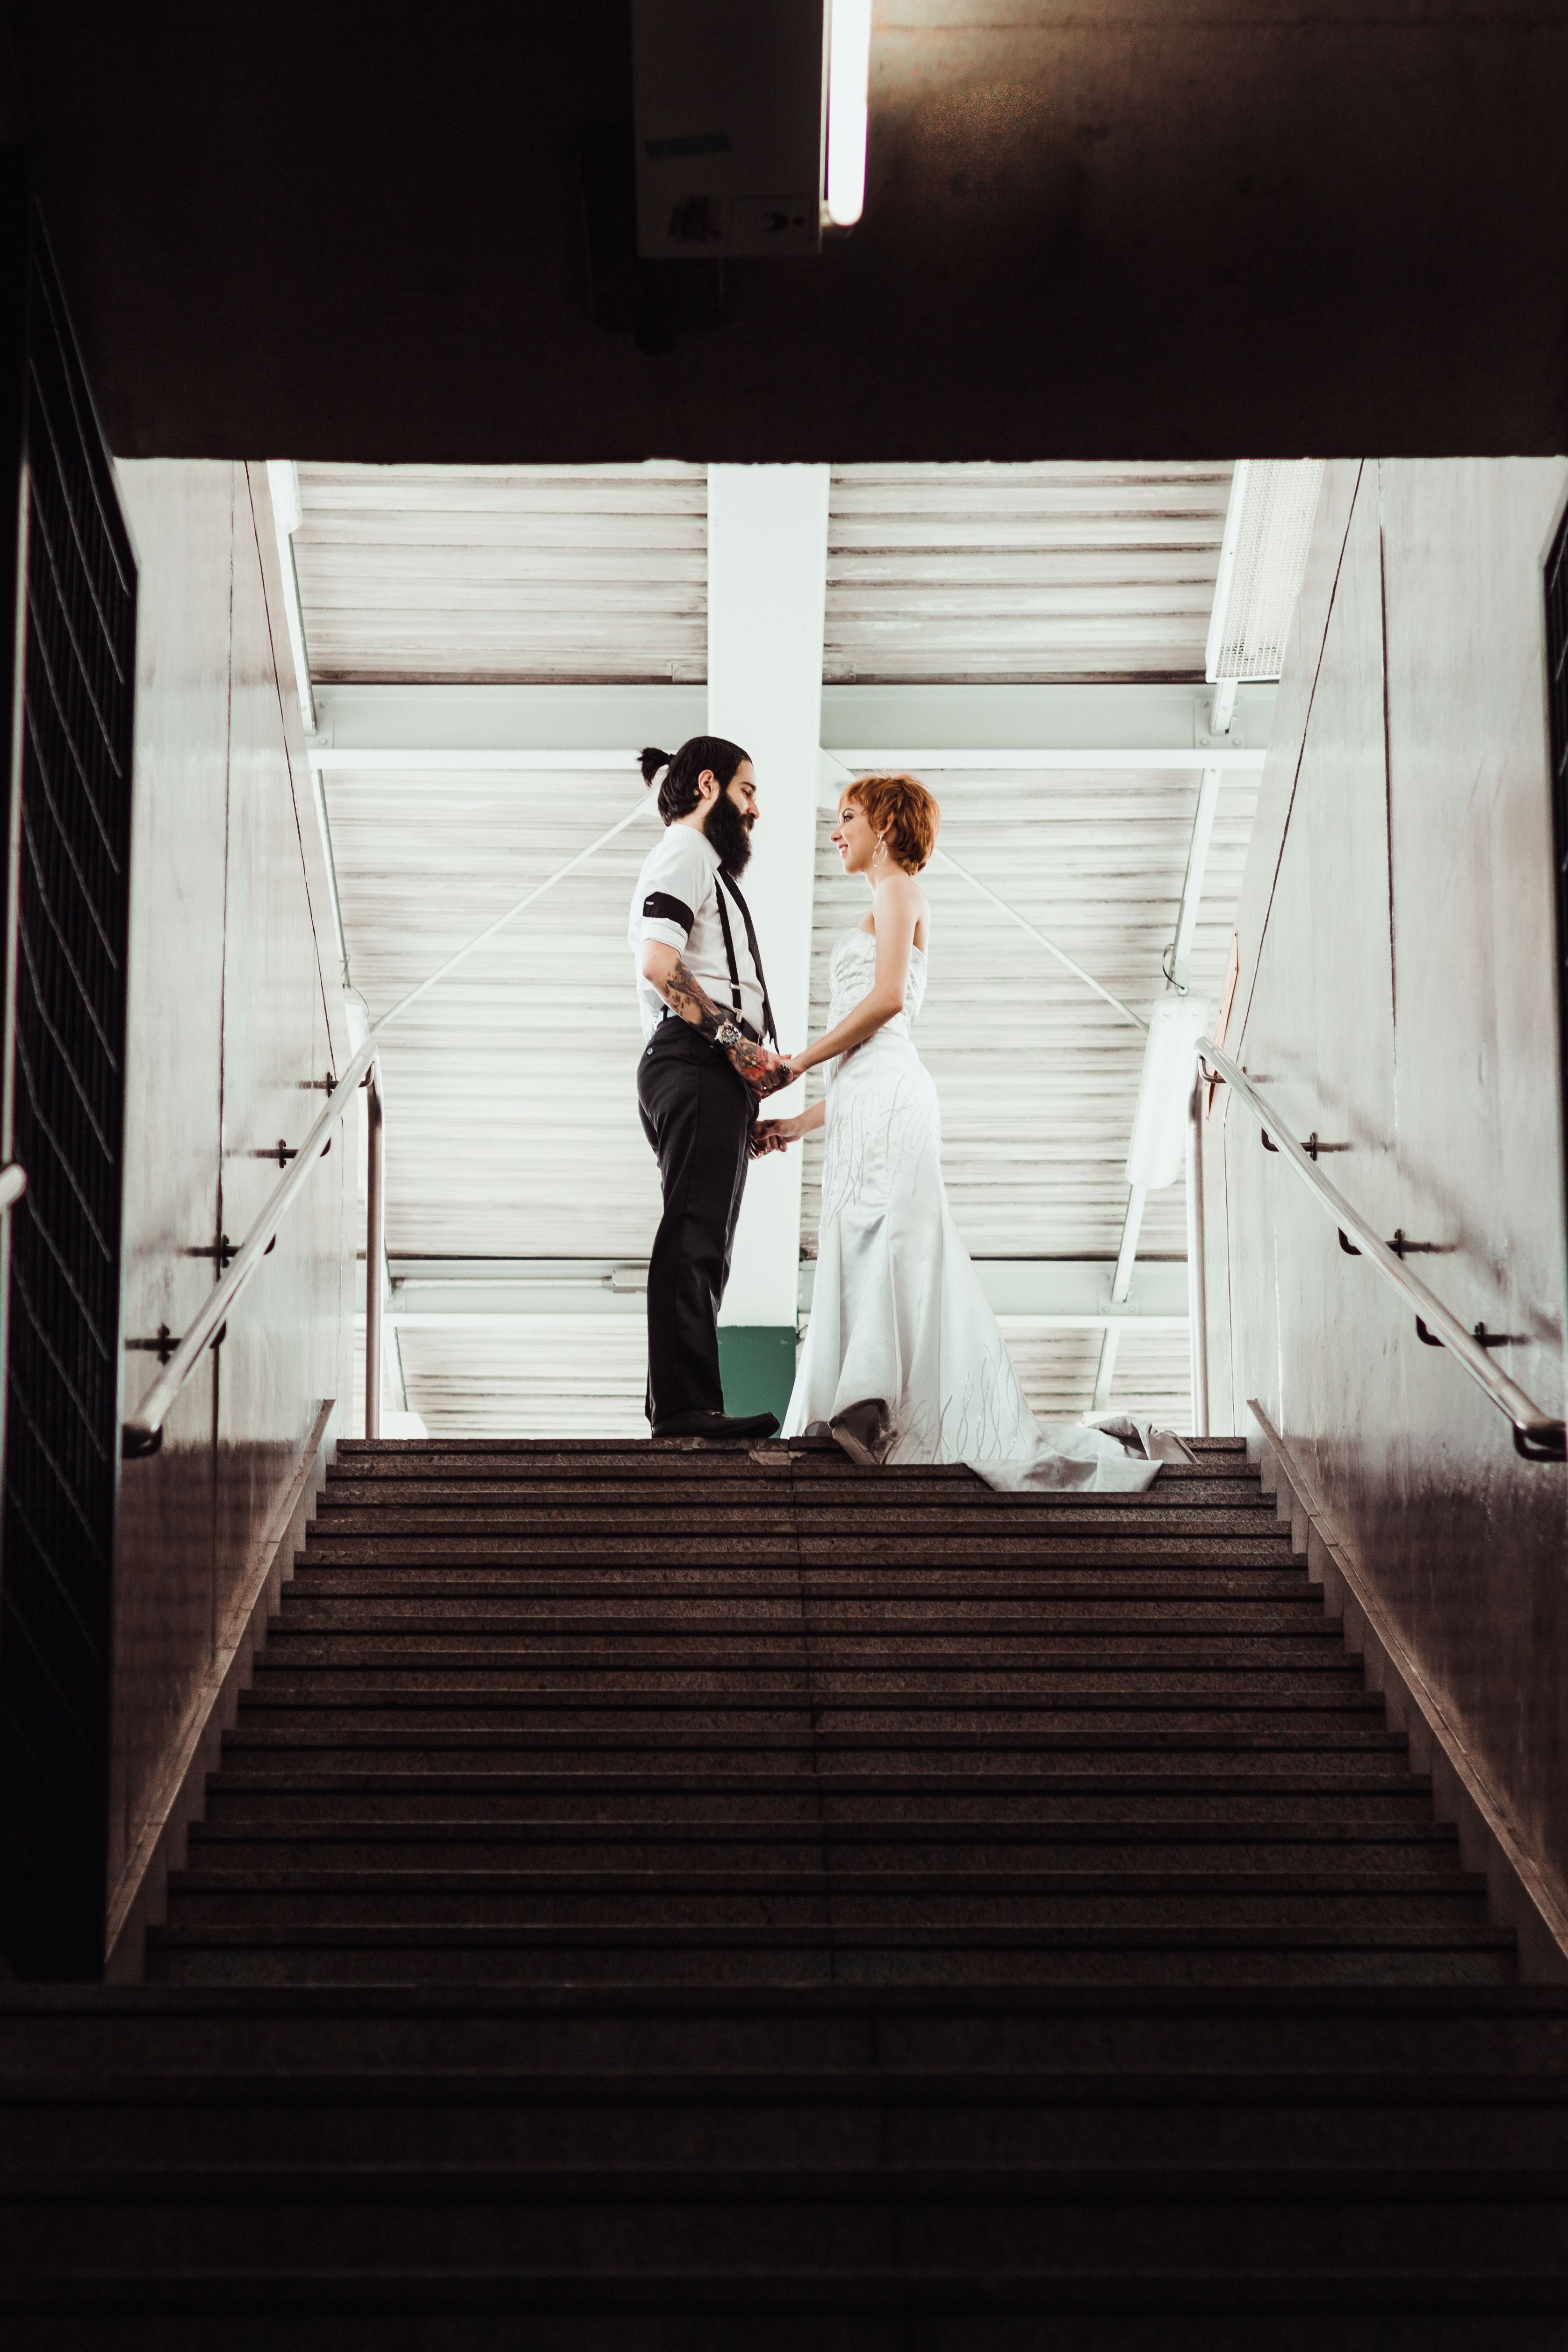upstairs: (271, 1600, 1353, 2352)
